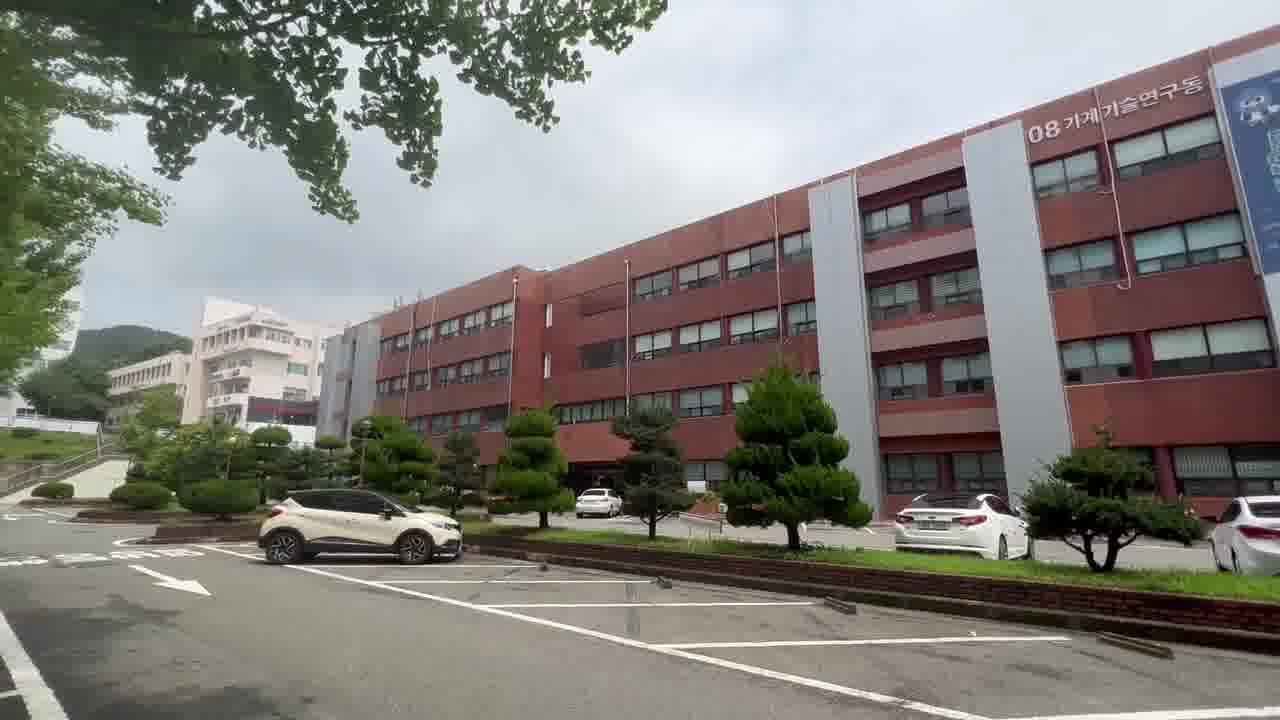low: (441, 74, 1208, 404)
